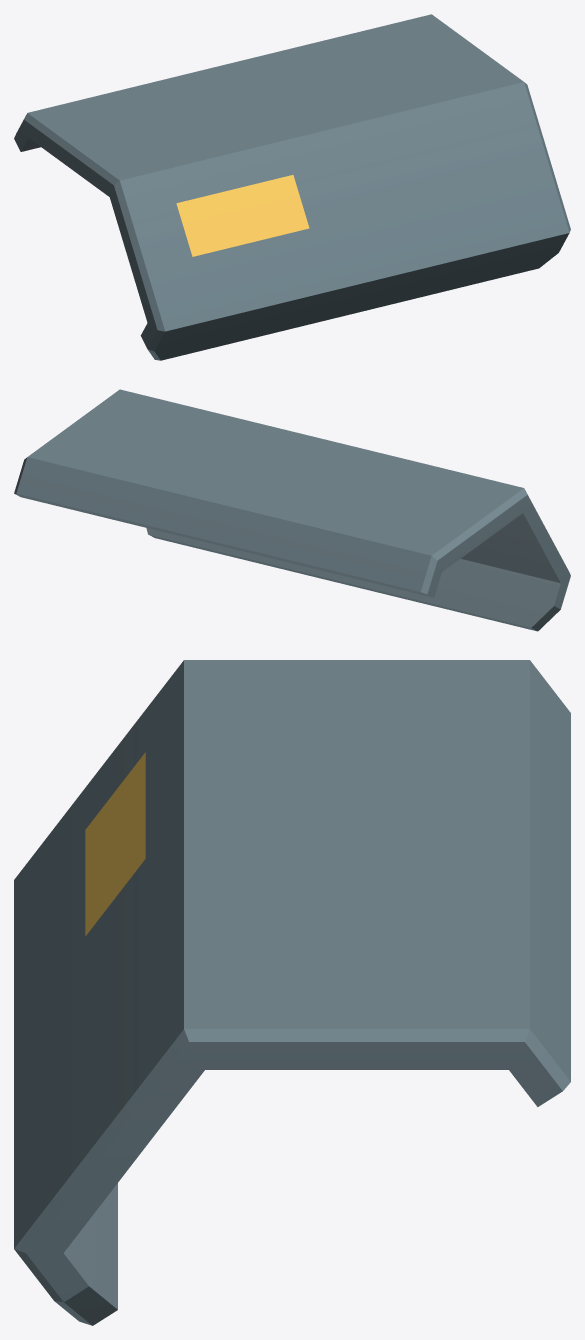
The model's file is Crate_003_cap_001.fbx.
3 renders of one model, top to bottom at view 1: azimuth 30°, elevation 25°; view 2: azimuth 150°, elevation 25°; view 3: azimuth 270°, elevation 25°, orthographic. The views are drawn at different scales.
Visible parts, largest first — view 1: Crate_003_cap_001; view 2: Crate_003_cap_001; view 3: Crate_003_cap_001.
Boxes of the visible parts, <box> form: Crate_003_cap_001: <box>14,14,570,360</box>; Crate_003_cap_001: <box>14,389,570,631</box>; Crate_003_cap_001: <box>14,660,570,1325</box>.
Size of the model in its own units: 63.76 by 39.78 by 24.16.
